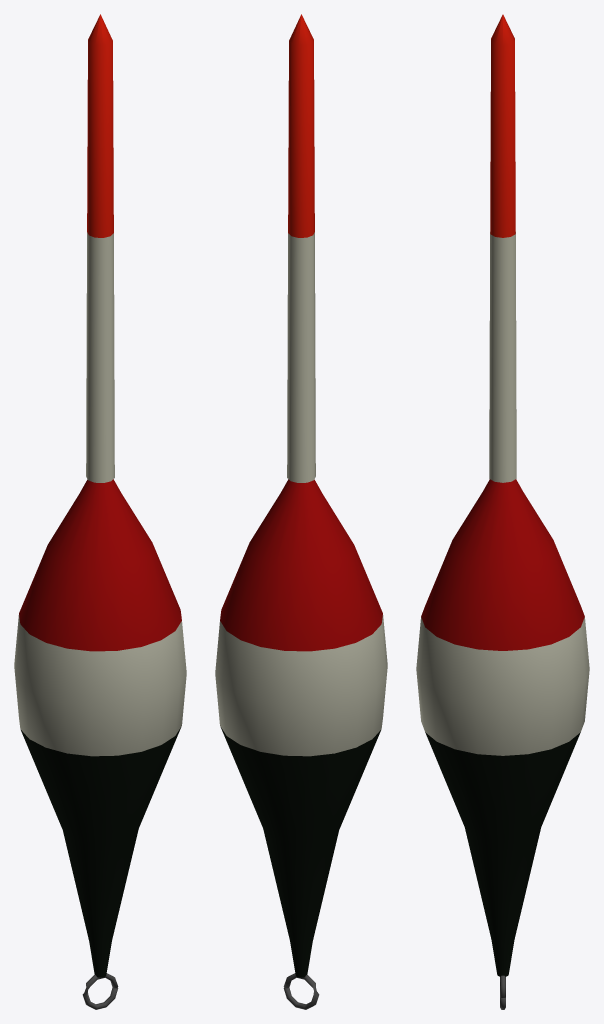
Rendered from SM_Bobber.fbx.
The picture shows the model from 3 angles, left to right: view 1: azimuth 30°, elevation 25°; view 2: azimuth 150°, elevation 25°; view 3: azimuth 270°, elevation 25°; orthographic projection.
Visible parts, largest first — view 1: SM_Bobber; view 2: SM_Bobber; view 3: SM_Bobber.
Part boxes in pixels (x1,y1,x2,y2): SM_Bobber: [14, 14, 186, 1009]; SM_Bobber: [215, 14, 387, 1009]; SM_Bobber: [416, 14, 589, 1009].
Bounding box in the file's own units: 1.8 × 1.8 × 11.38.
